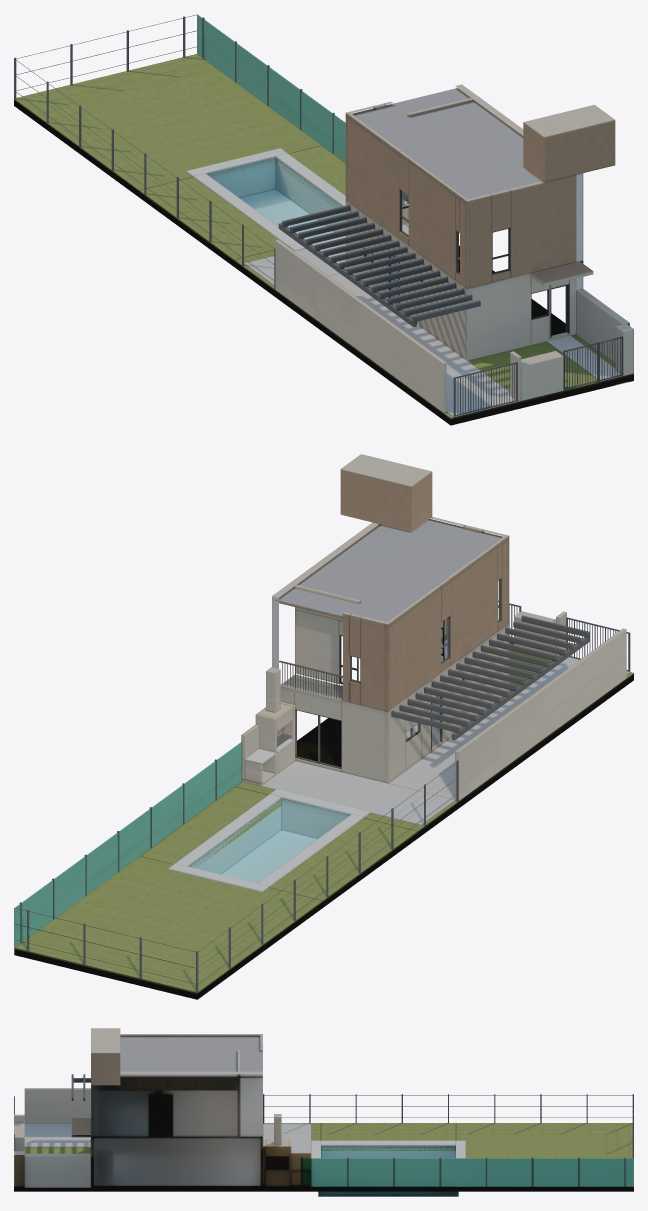
The model's file is exterior.glb.
The picture shows the model from 3 angles, top to bottom: view 1: azimuth 30°, elevation 25°; view 2: azimuth 150°, elevation 25°; view 3: azimuth 270°, elevation 25°; orthographic projection. The views are drawn at different scales.
Parts seen in each view (by area): view 1: B_Exterior; view 2: B_Exterior; view 3: B_Exterior.
Part boxes in pixels (x1,y1,x2,y2): B_Exterior: (14,14,633,425); B_Exterior: (14,454,633,999); B_Exterior: (14,1028,633,1196).
Size of the model in its own units: 9.31 by 9.8 by 32.2.
Materials: 1 (1 with a texture image).
